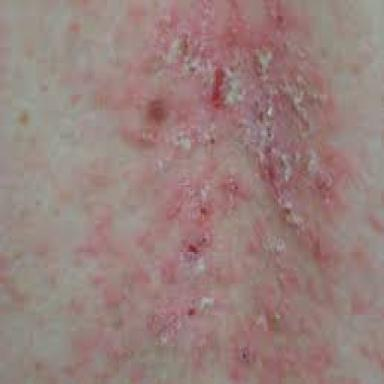Darier_s-Disease: (57, 0, 384, 384)
